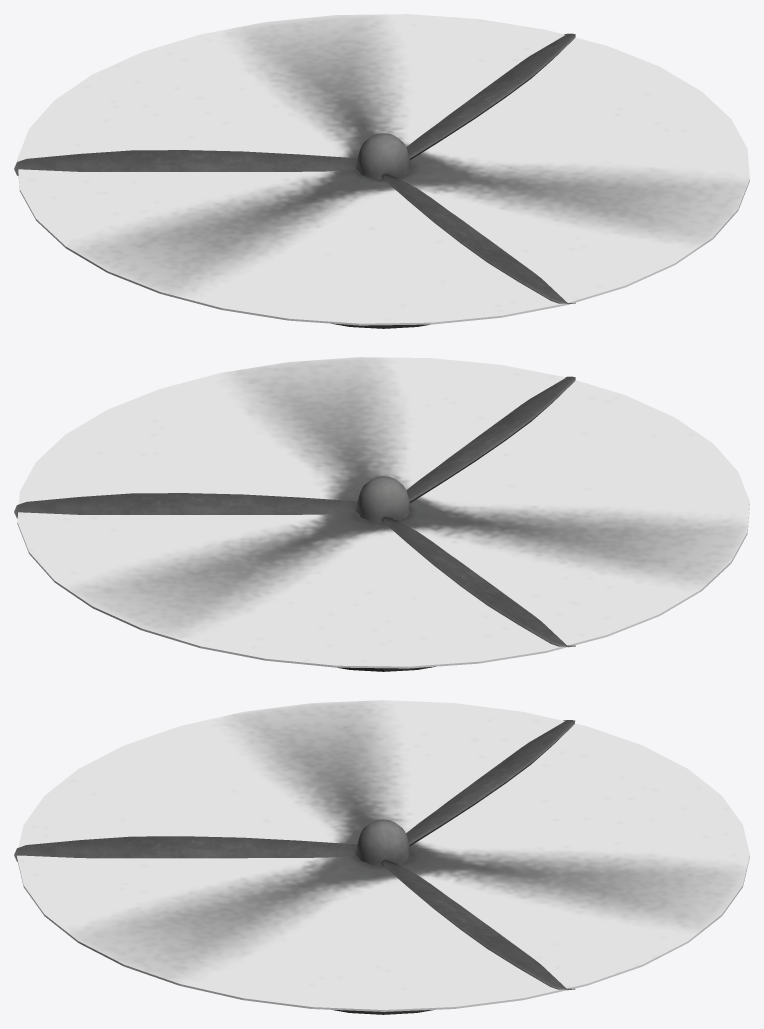
The model's file is wd_prop_engine_s1_1.fbx.
The picture shows the model from 3 angles, top to bottom: view 1: azimuth 30°, elevation 25°; view 2: azimuth 150°, elevation 25°; view 3: azimuth 270°, elevation 25°; orthographic projection.
Parts seen in each view (by area): view 1: high, low; view 2: high, low; view 3: high, low.
Boxes of the visible parts, x1,y1,x2,y2 form: high: [17, 14, 749, 325]; low: [14, 33, 575, 304]; high: [17, 357, 749, 668]; low: [14, 376, 575, 647]; high: [17, 700, 749, 1011]; low: [14, 720, 575, 990].
Bounding box in the file's own units: 3.5 × 0.8 × 3.51.
Materials: 2 (2 with a texture image).
